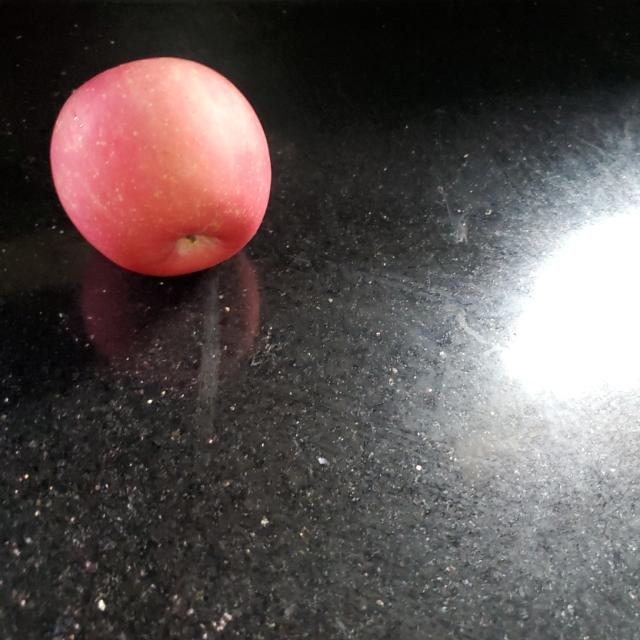apple: (50, 56, 275, 277)
